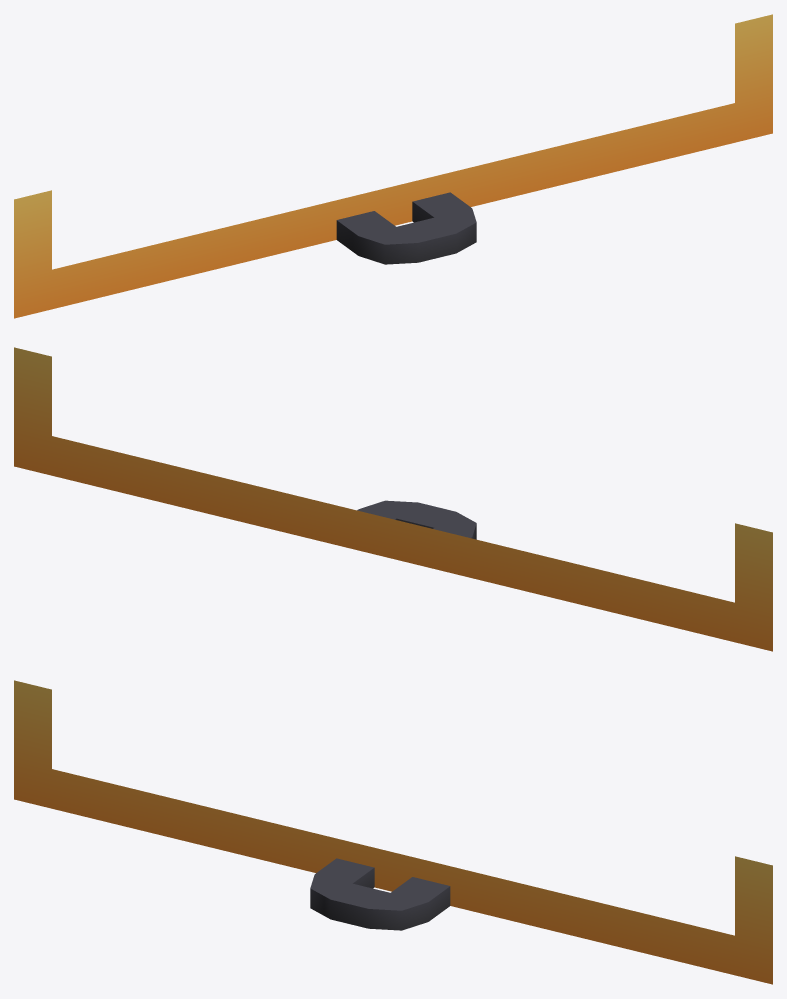
Rendered from track-striped-wide-cap-back.fbx.
3 views of the same model, one above another, from view 1: azimuth 30°, elevation 25°; view 2: azimuth 150°, elevation 25°; view 3: azimuth 330°, elevation 25° (orthographic).
Parts seen in each view (by area): view 1: track-striped-wide-cap-back; view 2: track-striped-wide-cap-back; view 3: track-striped-wide-cap-back.
Part boxes in pixels (bbox=[...]): track-striped-wide-cap-back: bbox=[14, 14, 772, 318]; track-striped-wide-cap-back: bbox=[14, 347, 772, 651]; track-striped-wide-cap-back: bbox=[14, 680, 772, 984].
Size of the model in its own units: 200 by 30 by 20.
